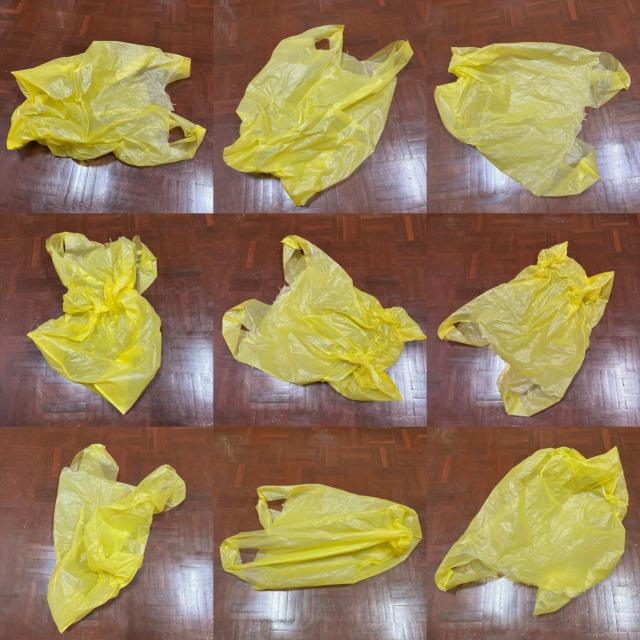Single-layer Plastic: (224, 25, 412, 206), (222, 235, 425, 401), (435, 448, 629, 614), (438, 242, 614, 416), (435, 42, 630, 196), (48, 444, 185, 632), (8, 41, 205, 166), (29, 232, 161, 414), (220, 484, 421, 590)
